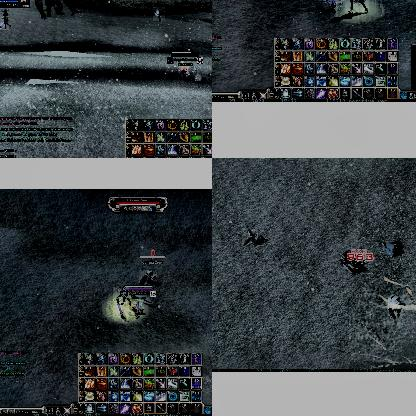caliana: (113, 287, 129, 319), (345, 0, 369, 13), (139, 270, 157, 286), (242, 229, 258, 247), (384, 242, 402, 256), (388, 298, 400, 316), (153, 7, 165, 21), (0, 16, 9, 30)
